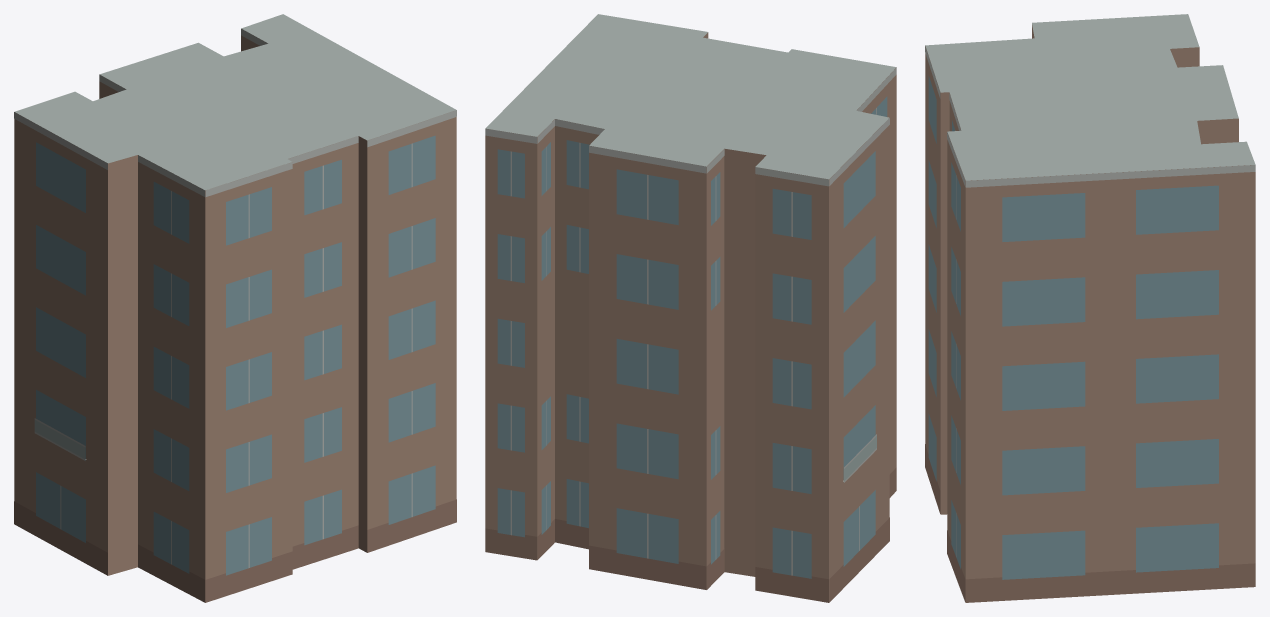
The model's file is survey-upis-32697946.glb.
The picture shows the model from 3 angles, left to right: view 1: azimuth 30°, elevation 25°; view 2: azimuth 150°, elevation 25°; view 3: azimuth 270°, elevation 25°; orthographic projection. The views are drawn at different scales.
Visible parts, largest first — view 1: survey-upis-32697946.tmp; view 2: survey-upis-32697946.tmp; view 3: survey-upis-32697946.tmp.
Part boxes in pixels (<box>): survey-upis-32697946.tmp: <box>14,14,456,602</box>; survey-upis-32697946.tmp: <box>485,14,896,602</box>; survey-upis-32697946.tmp: <box>925,14,1255,602</box>.
Size of the model in its own units: 12.38 by 14.6 by 10.37.
